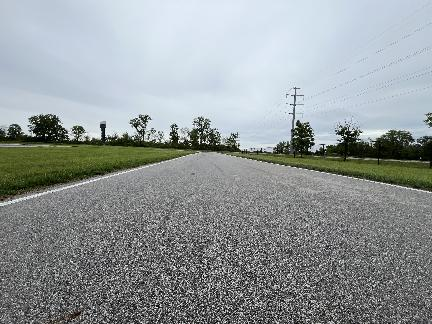Grass: (0, 146, 193, 197), (230, 154, 431, 189)
Lane: (0, 153, 431, 323)
